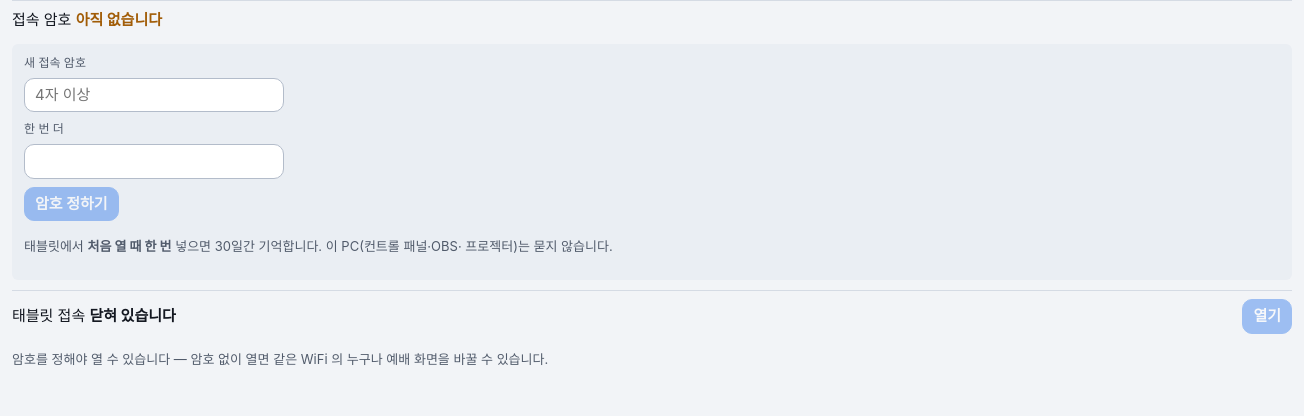
Test: 암호 정하기 › ★ 서버가 거절하면 그 말을 그대로 보여 준다 — 삼키지 않는다
In the password field labelled "새 접속 암호": (154, 95) [24, 78, 284, 112], type "암호1234"
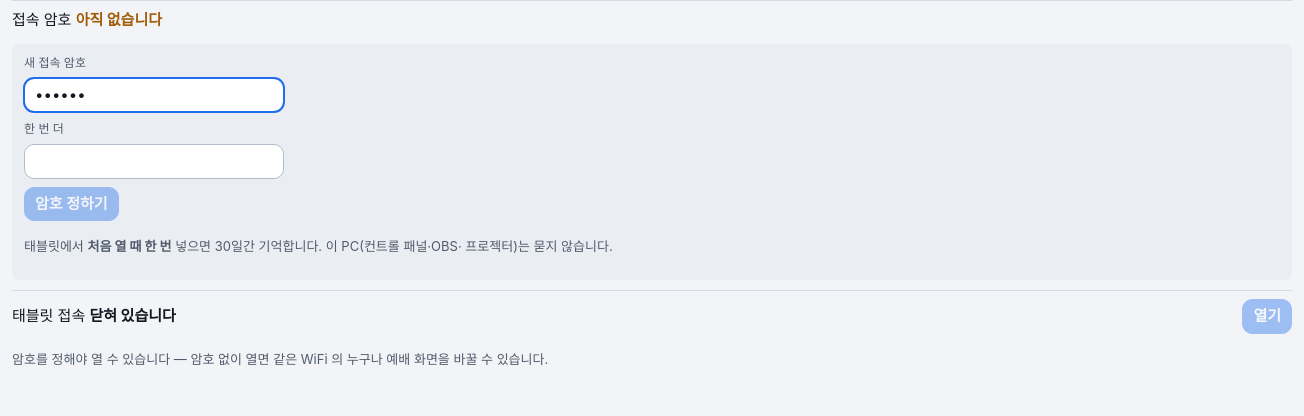
In the password field labelled "한 번 더": (154, 161) [24, 144, 284, 178], type "암호1234"
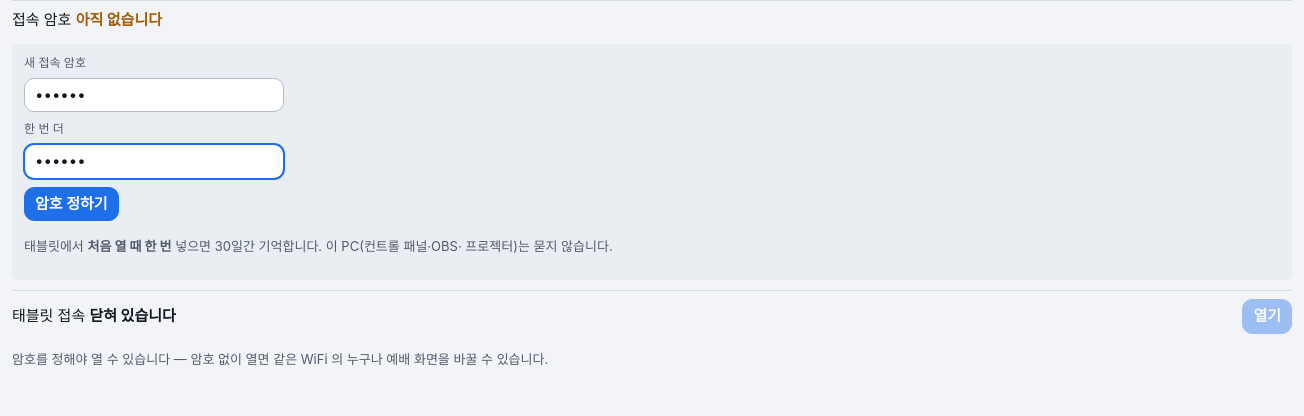
Click the button "암호 정하기": (71, 204) [24, 186, 119, 221]
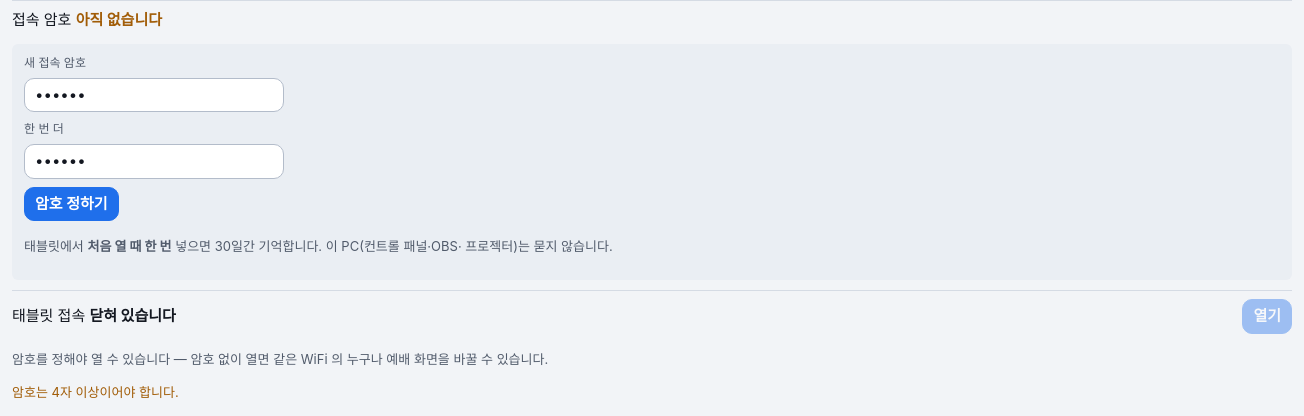
expect the text "암호는 4자 이상이어야 합니다." is shown: met, box [12, 384, 179, 400]
